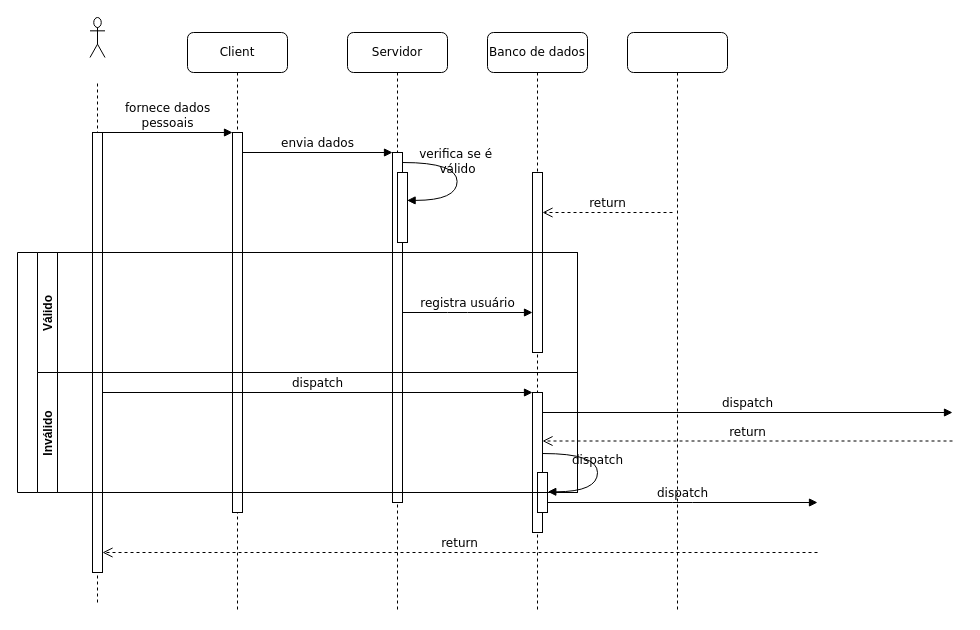
Some shapes in this 980 by 630 pixel diagram are drawn without their labels. The box of each missing label's shape, as (x1, y1, x2, y2) in pixels:
:Object: (626, 32, 728, 612)
Actor: (89, 16, 105, 58)
Validação: (16, 252, 578, 492)
